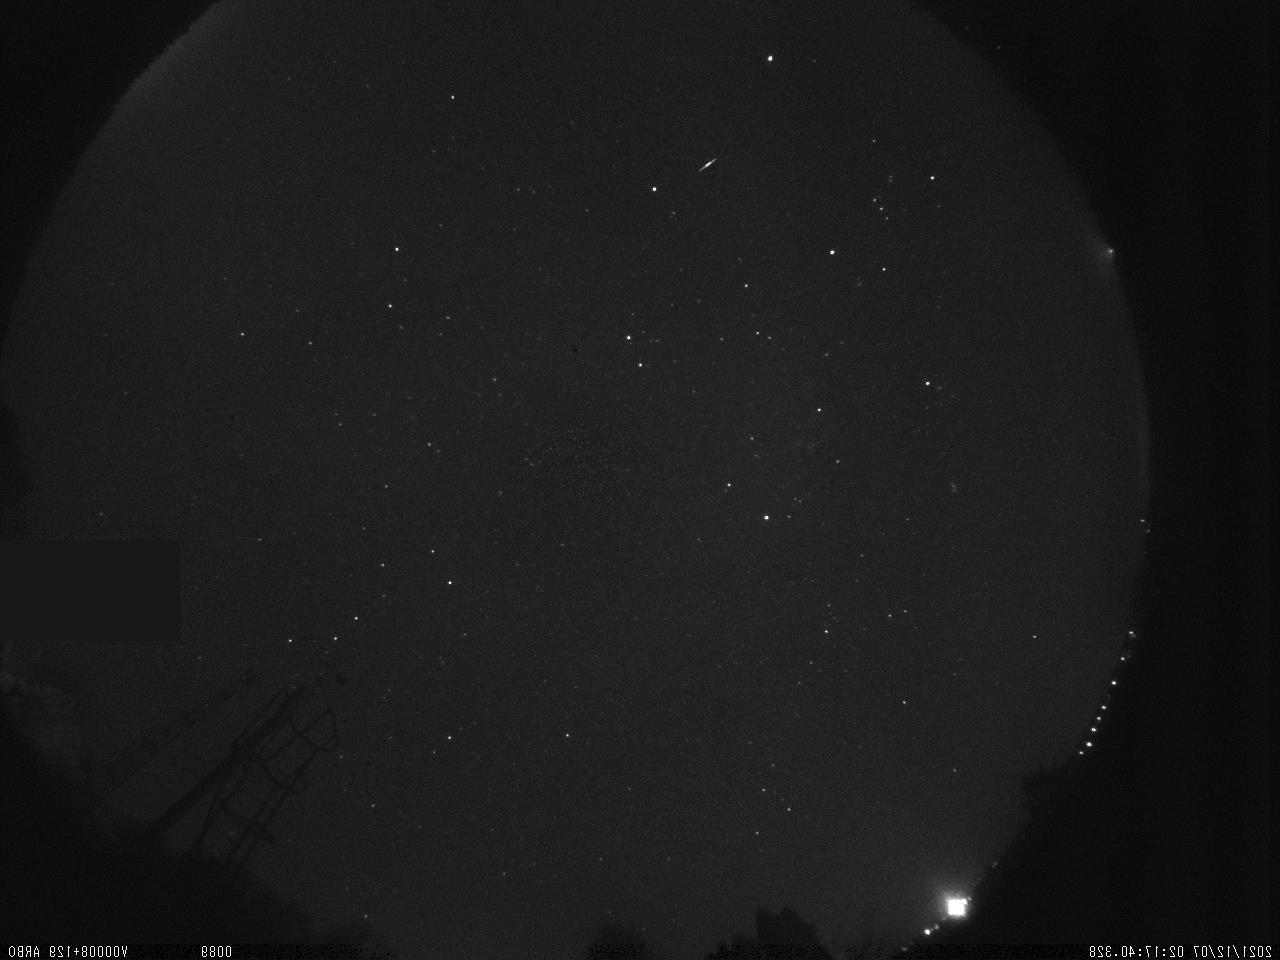meteor: (686, 147, 733, 193)
